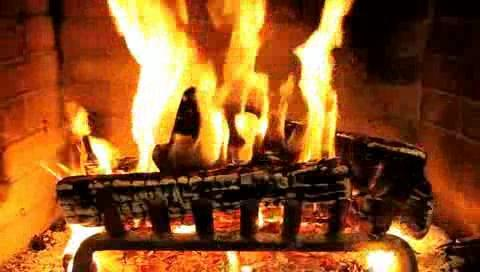fire: (132, 2, 330, 169)
